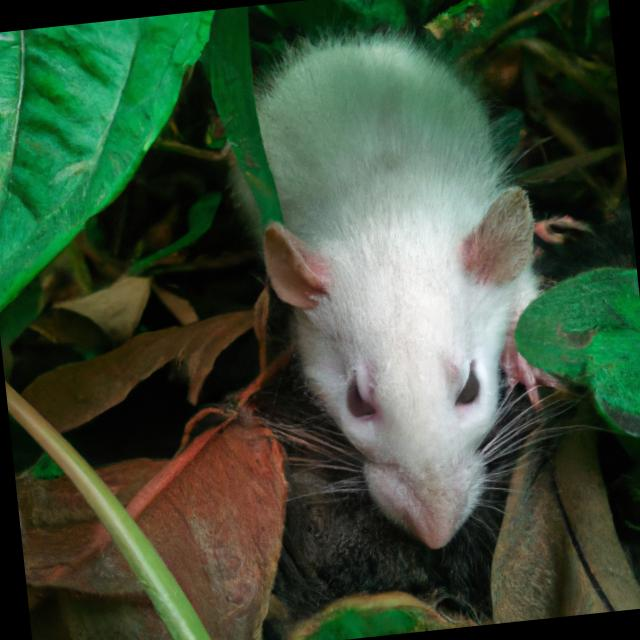rodents: (213, 0, 583, 573)
